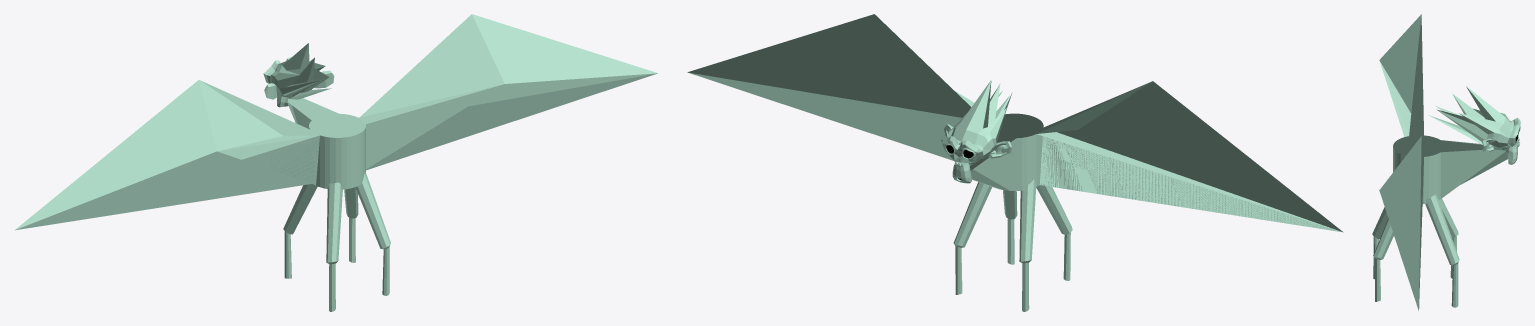
3 renders of one model, left to right at view 1: azimuth 30°, elevation 25°; view 2: azimuth 150°, elevation 25°; view 3: azimuth 270°, elevation 25°, orthographic. The views are drawn at different scales.
Parts seen in each view (by area): view 1: Cylinder.005; view 2: Cylinder.005; view 3: Cylinder.005.
Part boxes in pixels (x1,y1,x2,y2): Cylinder.005: [15, 14, 657, 311]; Cylinder.005: [687, 14, 1343, 311]; Cylinder.005: [1372, 14, 1520, 310].
Bounding box in the file's own units: 2598 × 923 × 572.
